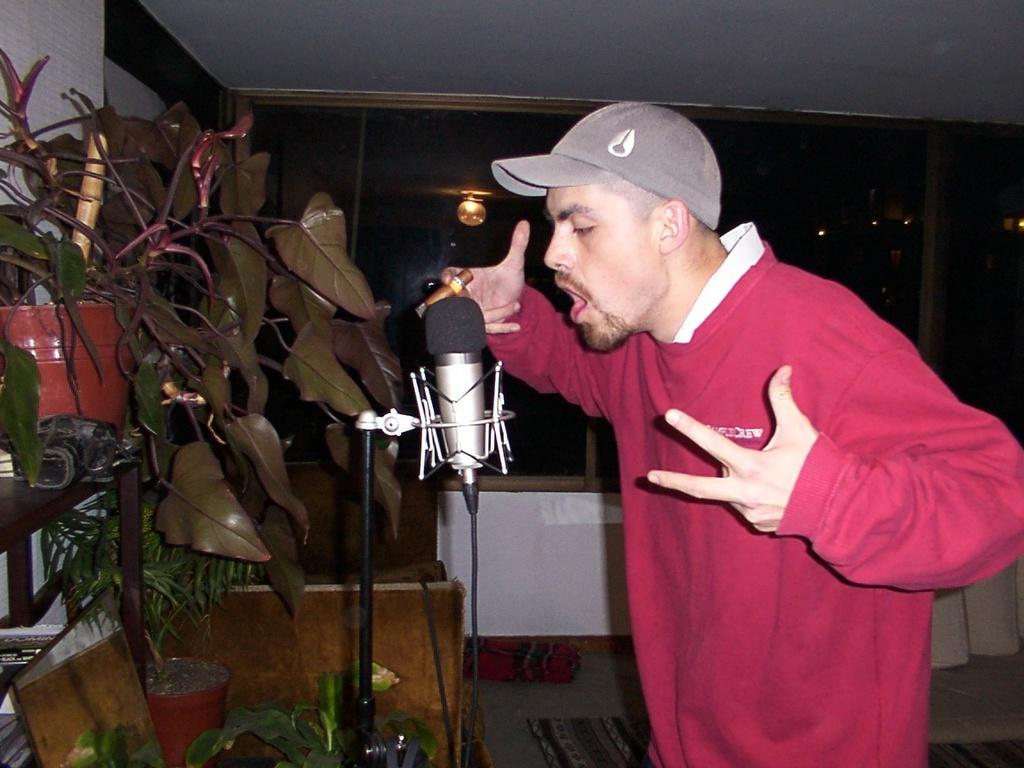Hat: (489, 101, 721, 228)
